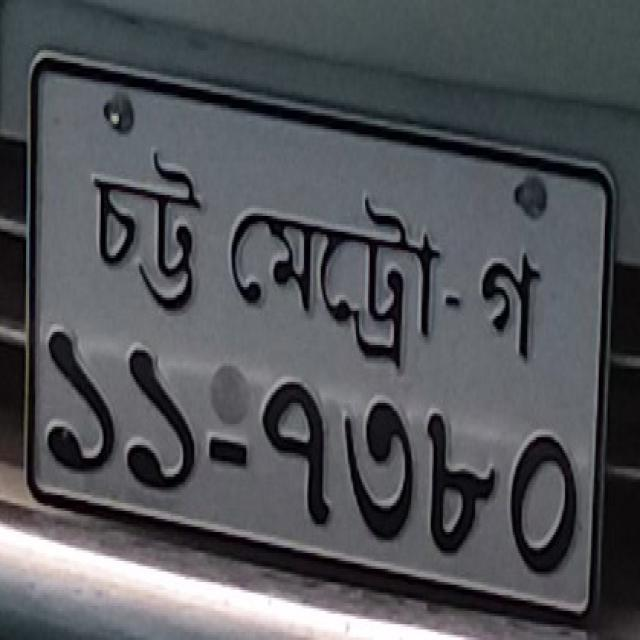numberplate: (21, 47, 618, 623)
